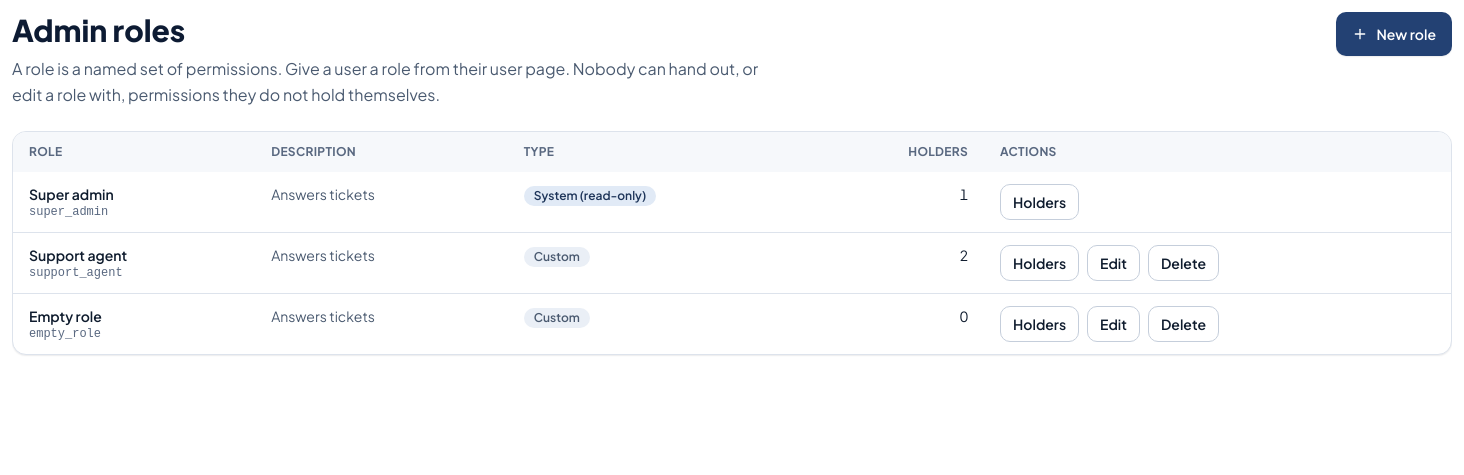
roles › blocks deleting a role that still has holders
Click the button with aria-label "Delete Support agent" at (1184, 263), box [1148, 245, 1219, 281]
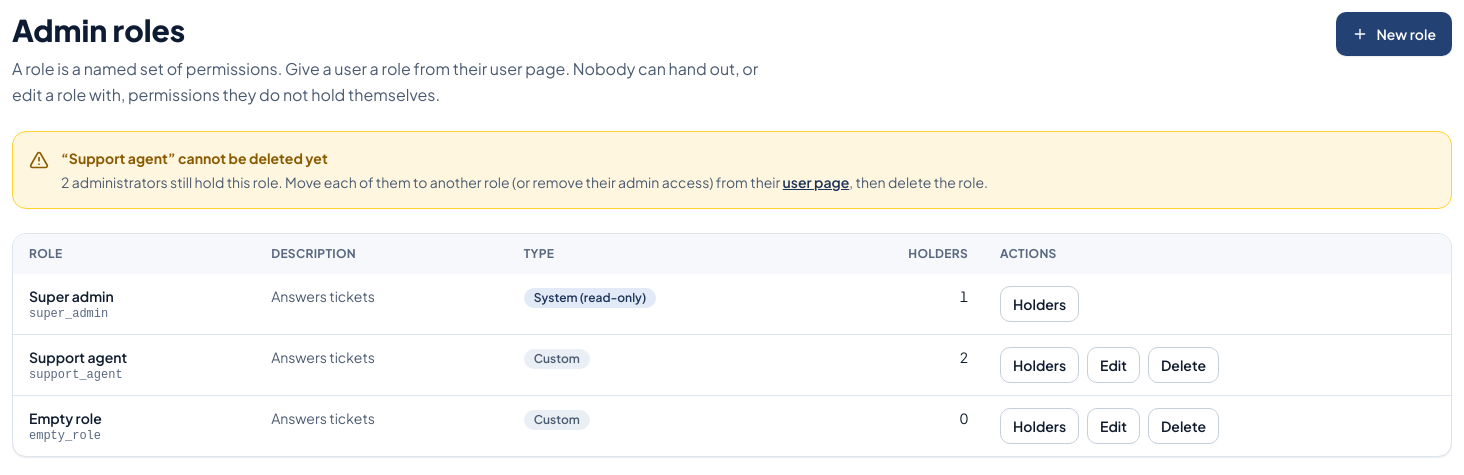
Check: the text "2 administrators still hold this role" is shown, box [61, 172, 988, 192]
